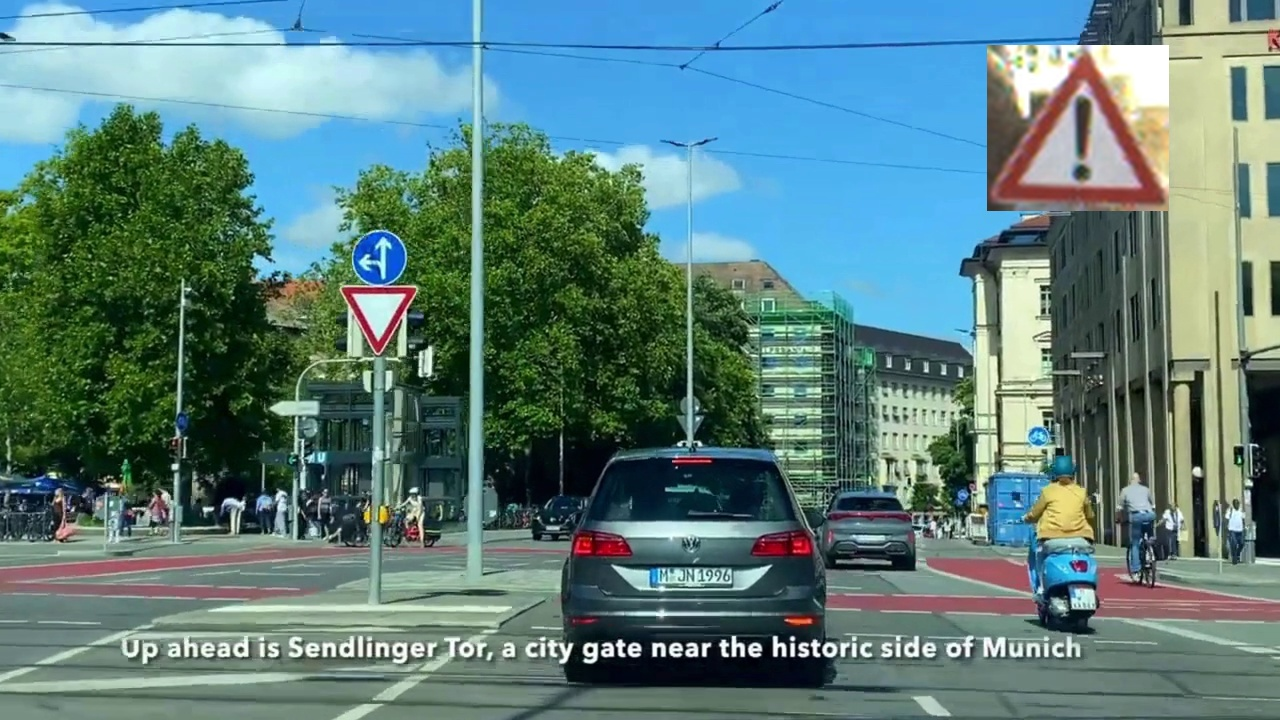Caution: (987, 45, 1169, 211)
